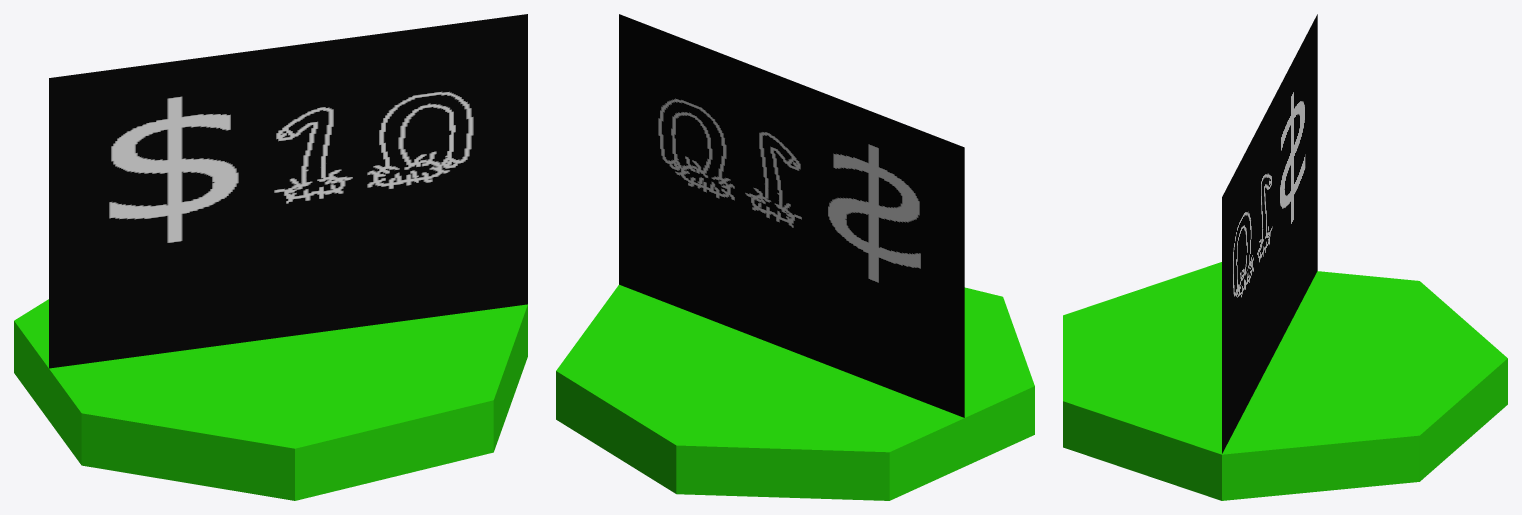
Rendered from button.fbx.
3 renders of one model, left to right at view 1: azimuth 30°, elevation 25°; view 2: azimuth 150°, elevation 25°; view 3: azimuth 270°, elevation 25°, orthographic. The views are drawn at different scales.
Parts seen in each view (by area): view 1: Cylinder; view 2: Cylinder; view 3: Cylinder.
Boxes of the visible parts, box(x1,y1,x2,y2) form: Cylinder: box(14, 14, 527, 500); Cylinder: box(556, 14, 1034, 500); Cylinder: box(1063, 14, 1507, 500).
Bounding box in the file's own units: 195 × 143 × 190.
